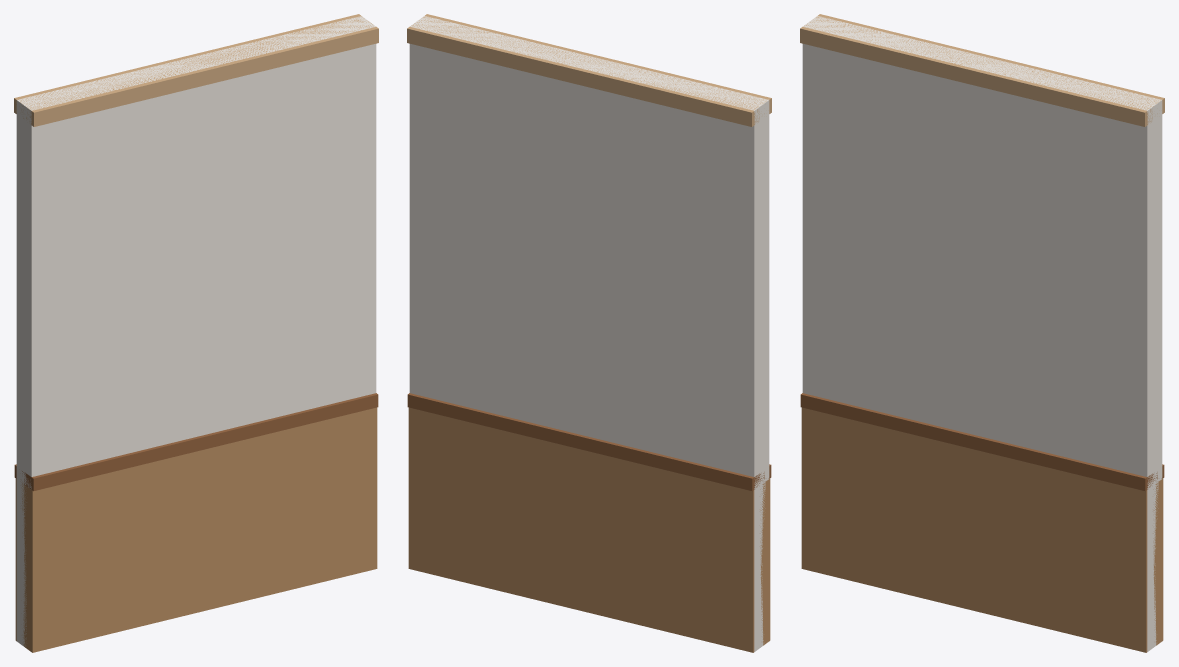
The model's file is wall_straight.glb.
3 views of the same model, side by side, from view 1: azimuth 30°, elevation 25°; view 2: azimuth 150°, elevation 25°; view 3: azimuth 330°, elevation 25° (orthographic).
Parts seen in each view (by area): view 1: wall_straight; view 2: wall_straight; view 3: wall_straight.
Boxes of the visible parts, bbox=[...] form: wall_straight: bbox=[14, 14, 378, 652]; wall_straight: bbox=[407, 14, 771, 652]; wall_straight: bbox=[800, 14, 1164, 652].
Bounding box in the file's own units: 2 × 3 × 0.2.
1 material, 1 textured.
